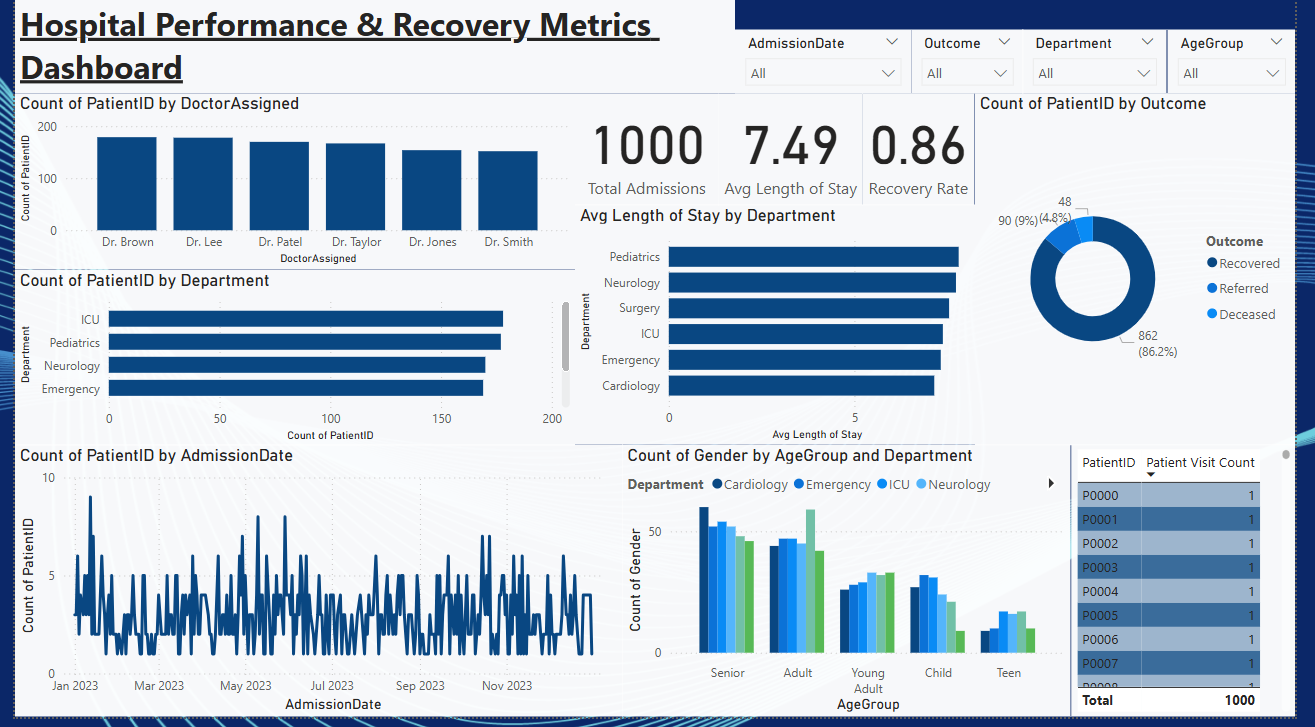

Layout of this report page (visuals, bound fields, positions):
{"tool":"powerbi","page":{"name":"Page 1","canvas":[1280,720],"ordinal":0},"visuals":[{"type":"card","fields":{"Values":["Hospital_Admissions_Data.Total Admissions"]},"box":[560,96,144,112],"z":0},{"type":"card","fields":{"Values":["Sheet1.Avg Length of Stay"]},"box":[704,96,144,112],"z":1},{"type":"lineChart","fields":{"Category":["Sheet1.AdmissionDate"],"Y":["CountNonNull(Sheet1.PatientID)"]},"box":[0,448,608,272],"z":2},{"type":"barChart","fields":{"Y":["CountNonNull(Hospital_Admissions_Data.PatientID)"],"Category":["Hospital_Admissions_Data.Department"]},"box":[0,272,560,176],"z":3},{"type":"card","fields":{"Values":["Sheet1.Recovery Rate"]},"box":[848,96,112,112],"z":4},{"type":"tableEx","fields":{"Values":["Sheet1.PatientID","Sheet1.Patient Visit Count"]},"box":[1056,448,224,272],"z":6},{"type":"donutChart","fields":{"Category":["Sheet1.Outcome"],"Y":["CountNonNull(Sheet1.PatientID)"]},"box":[960,96,320,352],"z":7},{"type":"clusteredColumnChart","fields":{"Category":["Sheet1.AgeGroup"],"Y":["CountNonNull(Sheet1.Gender)"],"Series":["Sheet1.Department"]},"box":[608,448,448,272],"z":9},{"type":"barChart","fields":{"Y":["Sheet1.Avg Length of Stay"],"Category":["Sheet1.Department"]},"box":[560,208,400,240],"z":10},{"type":"columnChart","fields":{"Y":["CountNonNull(Sheet1.PatientID)"],"Category":["Sheet1.DoctorAssigned"]},"box":[0,96,560,176],"z":11},{"type":"slicer","fields":{"Values":["Sheet1.AdmissionDate"]},"box":[720,32,176,64],"z":12},{"type":"slicer","fields":{"Values":["Sheet1.Outcome"]},"box":[896,32,112,64],"z":13},{"type":"slicer","fields":{"Values":["Sheet1.Department"]},"box":[1008,32,144,64],"z":14},{"type":"slicer","fields":{"Values":["Sheet1.AgeGroup"]},"box":[1152,32,128,64],"z":15},{"type":"textbox","box":[0,0,720,96],"z":16}]}

Visuals, with their boxes in screenshot pixels (x1, y1, x2, y2), scaled from the page's 1280x720 canvas onto the 1315x727 screenshot:
card - Hospital_Admissions_Data.Total Admissions: {"x1": 575, "y1": 97, "x2": 723, "y2": 210}
card - Sheet1.Avg Length of Stay: {"x1": 723, "y1": 97, "x2": 871, "y2": 210}
lineChart - Sheet1.AdmissionDate x CountNonNull(Sheet1.PatientID): {"x1": 0, "y1": 452, "x2": 625, "y2": 726}
barChart - CountNonNull(Hospital_Admissions_Data.PatientID) x Hospital_Admissions_Data.Department: {"x1": 0, "y1": 275, "x2": 575, "y2": 452}
card - Sheet1.Recovery Rate: {"x1": 871, "y1": 97, "x2": 986, "y2": 210}
tableEx - Sheet1.PatientID x Sheet1.Patient Visit Count: {"x1": 1085, "y1": 452, "x2": 1314, "y2": 726}
donutChart - Sheet1.Outcome x CountNonNull(Sheet1.PatientID): {"x1": 986, "y1": 97, "x2": 1314, "y2": 452}
clusteredColumnChart - Sheet1.AgeGroup x CountNonNull(Sheet1.Gender): {"x1": 625, "y1": 452, "x2": 1085, "y2": 726}
barChart - Sheet1.Avg Length of Stay x Sheet1.Department: {"x1": 575, "y1": 210, "x2": 986, "y2": 452}
columnChart - CountNonNull(Sheet1.PatientID) x Sheet1.DoctorAssigned: {"x1": 0, "y1": 97, "x2": 575, "y2": 275}
slicer - Sheet1.AdmissionDate: {"x1": 740, "y1": 32, "x2": 920, "y2": 97}
slicer - Sheet1.Outcome: {"x1": 920, "y1": 32, "x2": 1036, "y2": 97}
slicer - Sheet1.Department: {"x1": 1036, "y1": 32, "x2": 1184, "y2": 97}
slicer - Sheet1.AgeGroup: {"x1": 1184, "y1": 32, "x2": 1314, "y2": 97}
textbox: {"x1": 0, "y1": 0, "x2": 740, "y2": 97}
